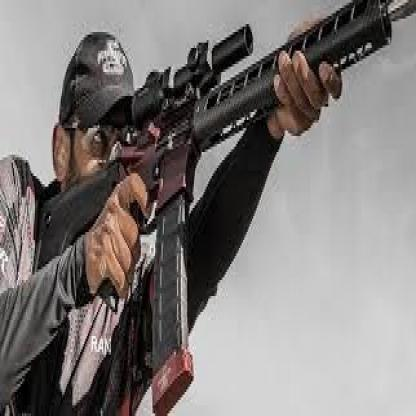Gun: (34, 0, 416, 415)
